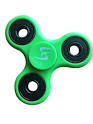fidget_kid_spinner_toys: (2, 10, 89, 110)
